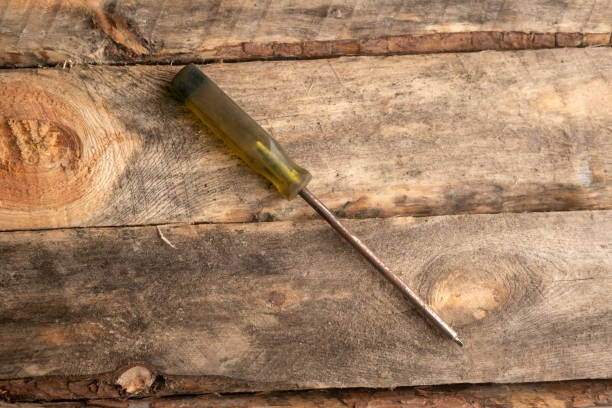screwdriver: (171, 62, 466, 348)
